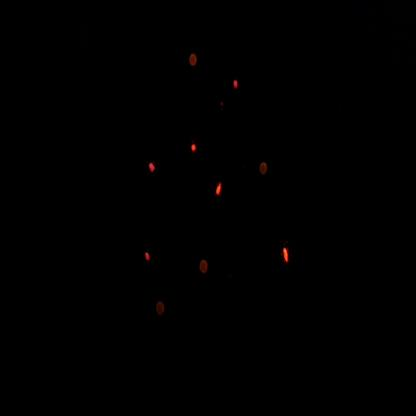PET: (224, 69, 249, 98), (139, 240, 158, 273), (144, 155, 163, 186)
PVC: (276, 238, 299, 277), (149, 291, 173, 325), (209, 175, 231, 211), (254, 155, 273, 188), (196, 250, 216, 279), (183, 137, 204, 164), (188, 46, 201, 73)
